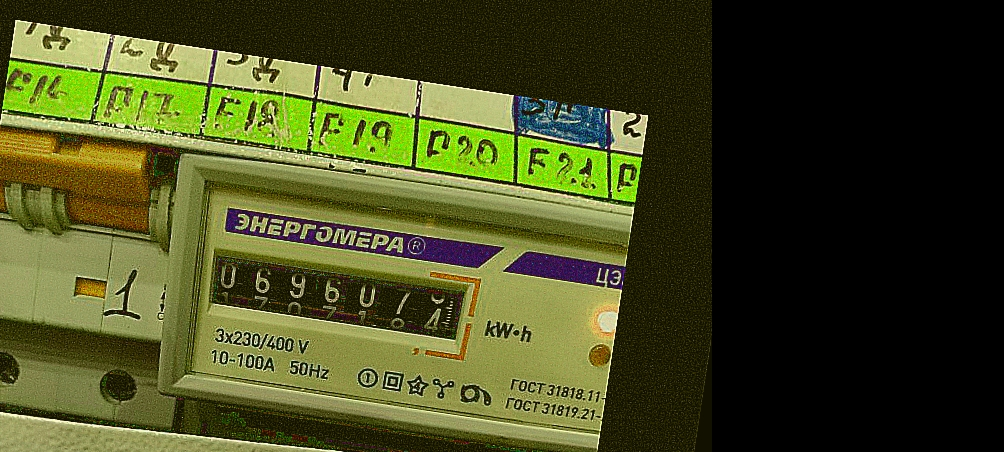0: (214, 258, 240, 291), (355, 278, 378, 310)
4: (419, 303, 442, 335)
6: (319, 273, 344, 307), (250, 263, 273, 295)
7: (390, 283, 412, 316)
9: (285, 269, 309, 300)
screen: (191, 230, 485, 363)
